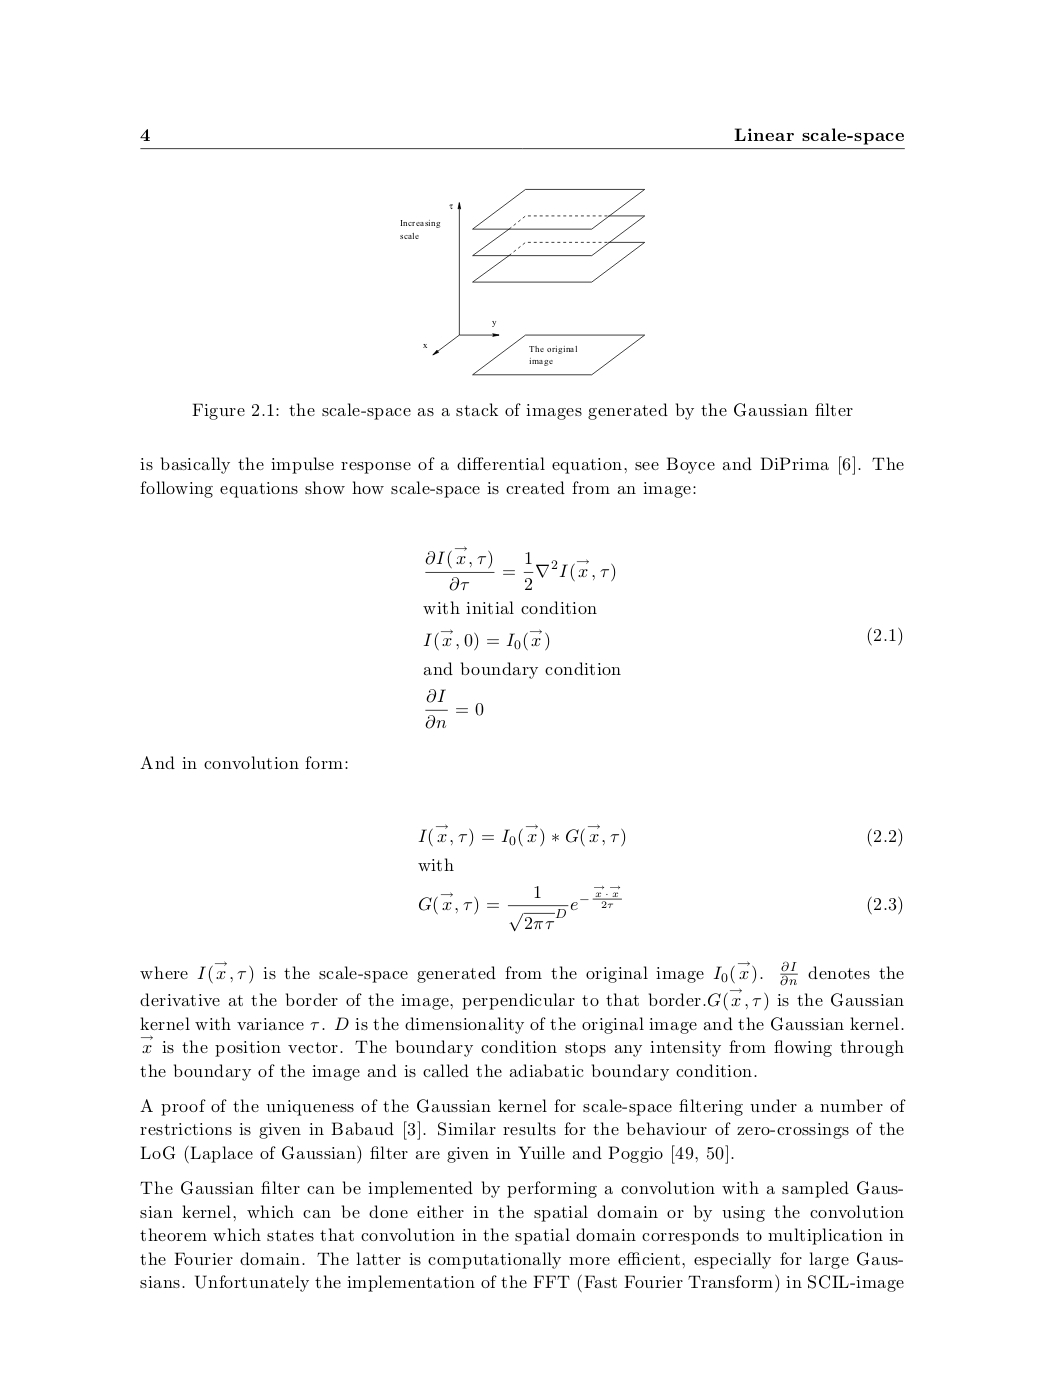figure: (400, 188, 644, 376)
formula: (418, 884, 902, 932), (418, 822, 902, 847), (424, 626, 902, 651), (425, 545, 615, 591), (425, 688, 483, 729)
